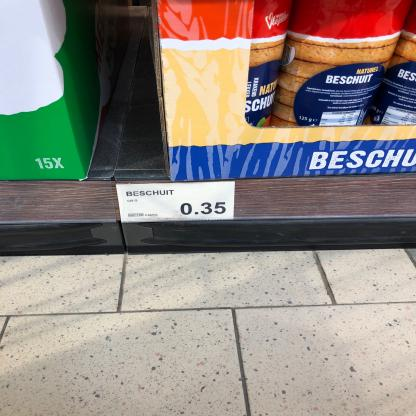prtg: (116, 182, 238, 224)
